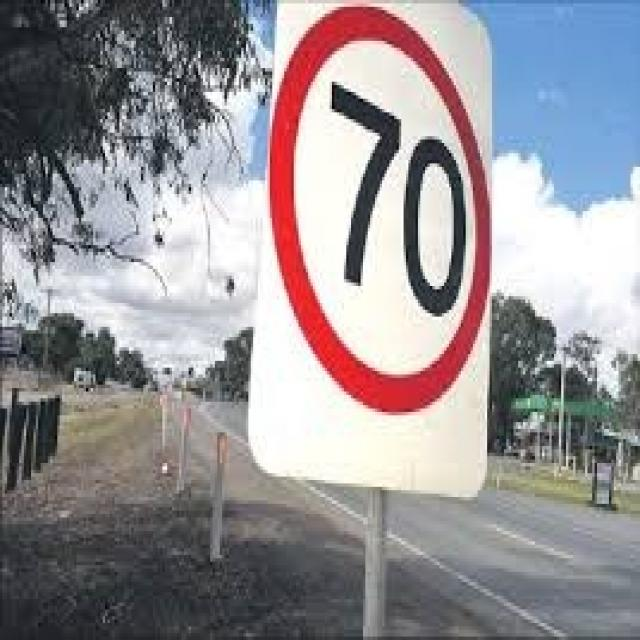speed_limit_70: (266, 1, 505, 416)
